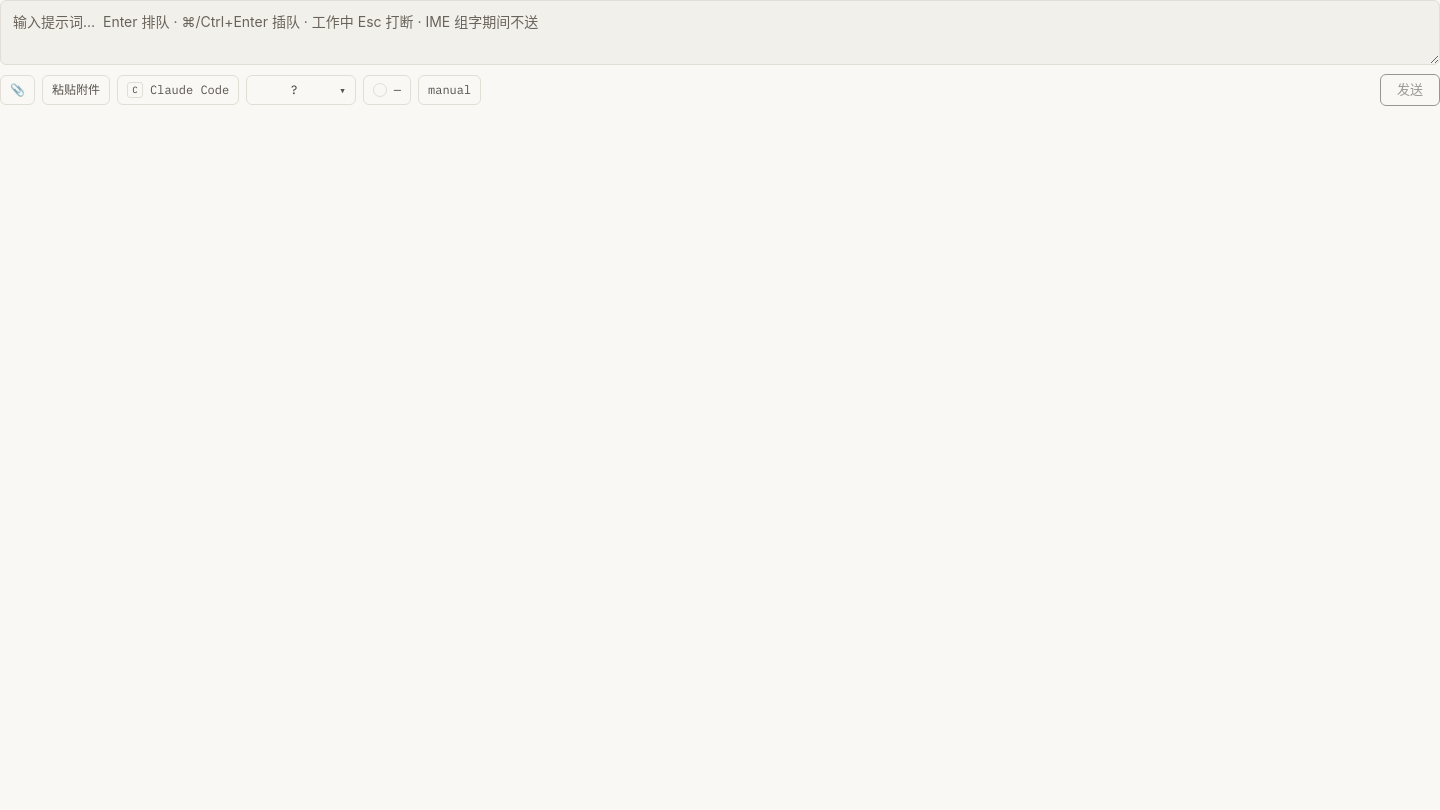
Test: Composer context usage chip › opens an empty-state card with a description when there is no rollup (RC3)
Click the button with test id "context-chip" at (387, 90), box [363,75,411,105]
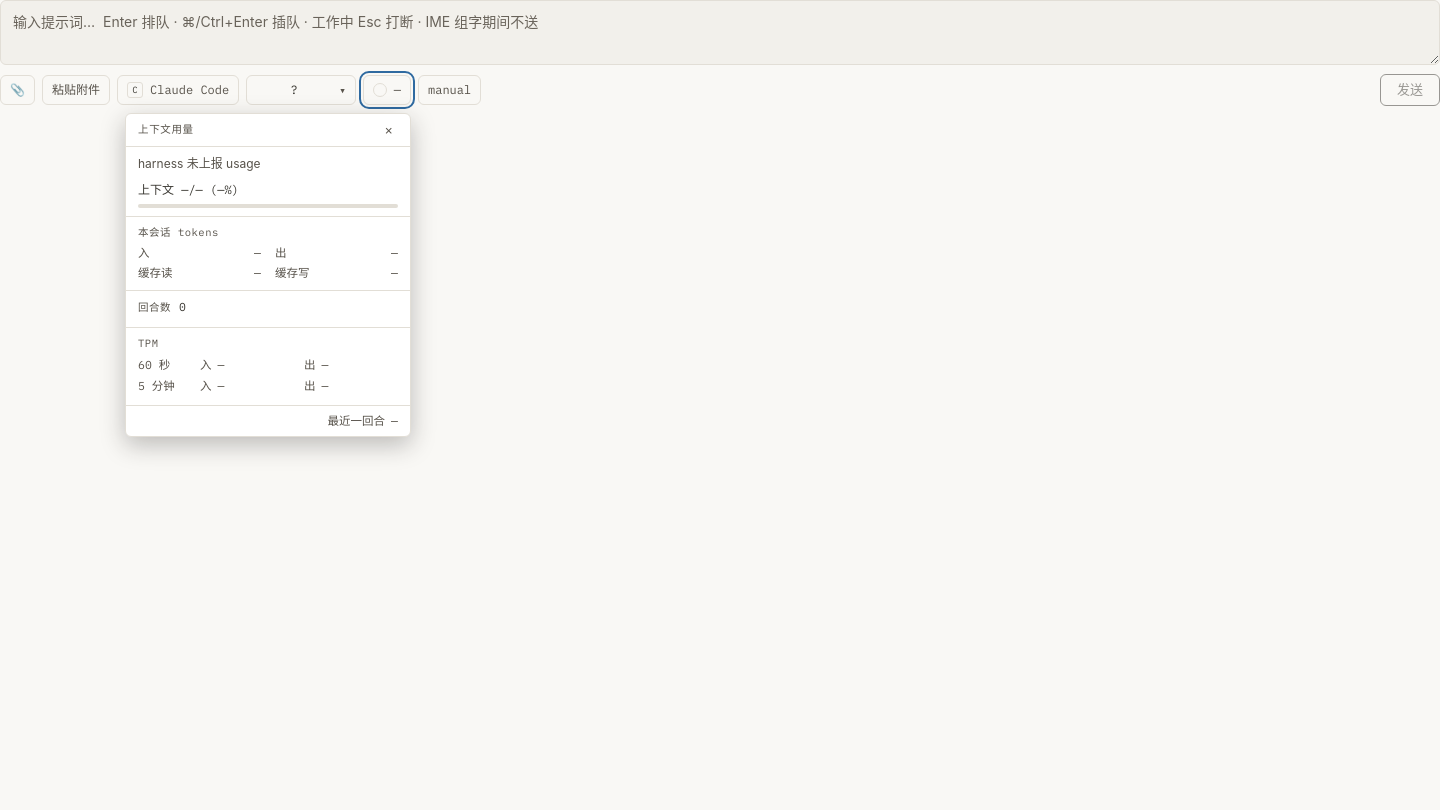
expect the dialog with test id "context-usage-popover" is shown: met, box [125,113,411,437]
expect the text with test id "context-usage-empty-note" shows "未上报 usage": met, box [138,156,261,171]
